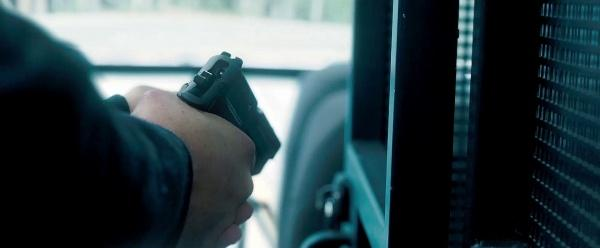Gun: (177, 48, 281, 177)
